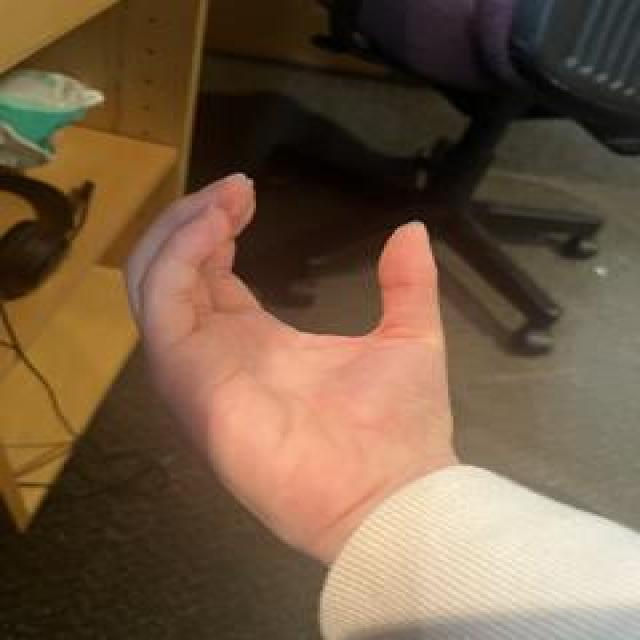C: (120, 166, 461, 560)
